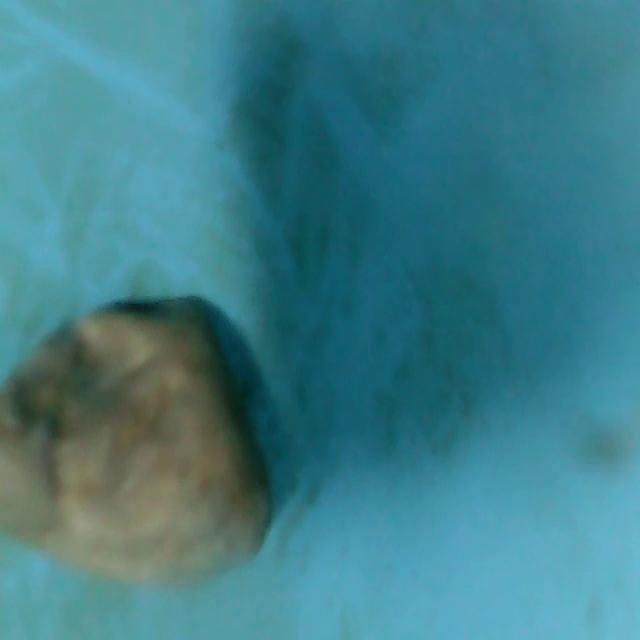rock: (0, 302, 285, 599)
